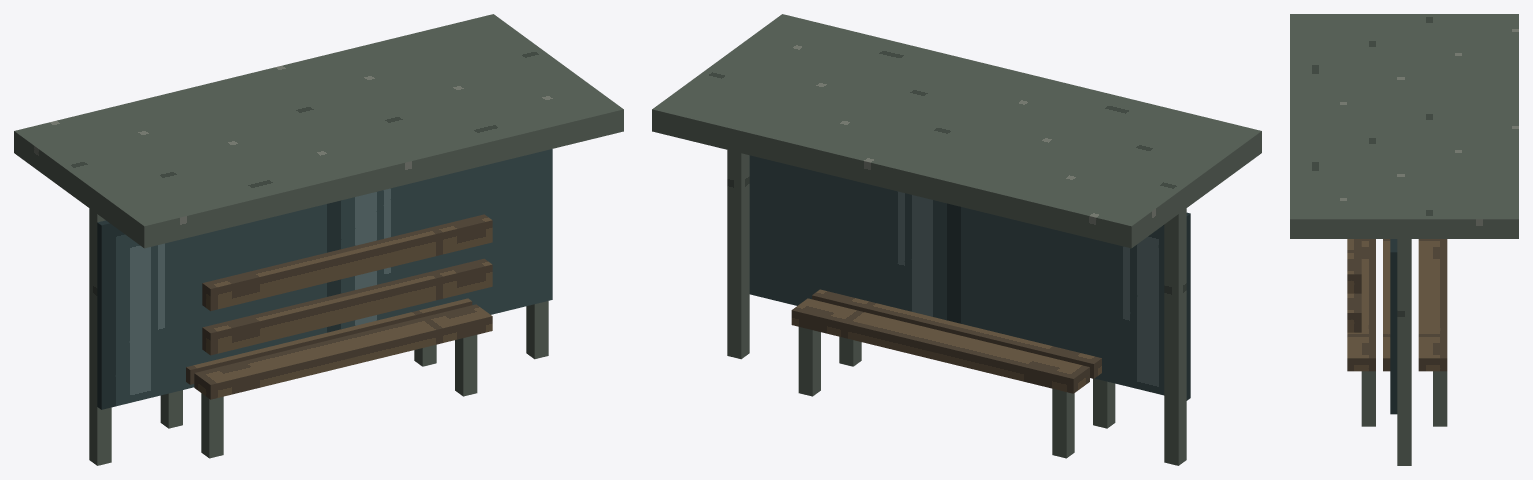
Rendered from bus_shelter.gltf.
3 views of the same model, side by side, from view 1: azimuth 30°, elevation 25°; view 2: azimuth 150°, elevation 25°; view 3: azimuth 270°, elevation 25° (orthographic). The views are drawn at different scales.
Parts seen in each view (by area): view 1: roof, back (×3), seat (×2), post (×2), leg (×3); view 2: roof, back, seat (×2), post (×2), leg (×3); view 3: roof, seat (×3), post, back (×3), leg (×2).
Part boxes in pixels (bbox=[...]): roof: bbox=[14, 14, 623, 248]; back (×3): bbox=[97, 149, 552, 409]; seat (×2): bbox=[186, 298, 492, 399]; post (×2): bbox=[89, 208, 548, 465]; leg (×3): bbox=[160, 335, 477, 458]; roof: bbox=[652, 14, 1261, 248]; back: bbox=[749, 155, 1190, 400]; seat (×2): bbox=[791, 289, 1101, 393]; post (×2): bbox=[727, 150, 1186, 465]; leg (×3): bbox=[798, 327, 1115, 458]; roof: bbox=[1290, 14, 1518, 238]; seat (×3): bbox=[1347, 239, 1447, 371]; post: bbox=[1397, 239, 1411, 465]; back (×3): bbox=[1347, 239, 1397, 414]; leg (×2): bbox=[1361, 371, 1447, 426].
Bounding box in the file's own units: 4.25 × 2.44 × 2.
Materials: 3 (3 with a texture image).
